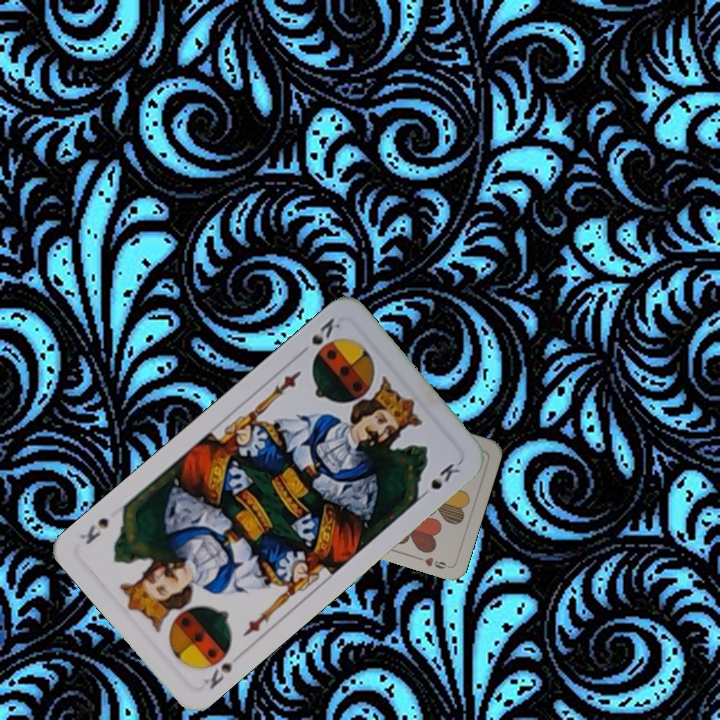SK: (294, 313, 343, 359), (199, 656, 237, 692)
